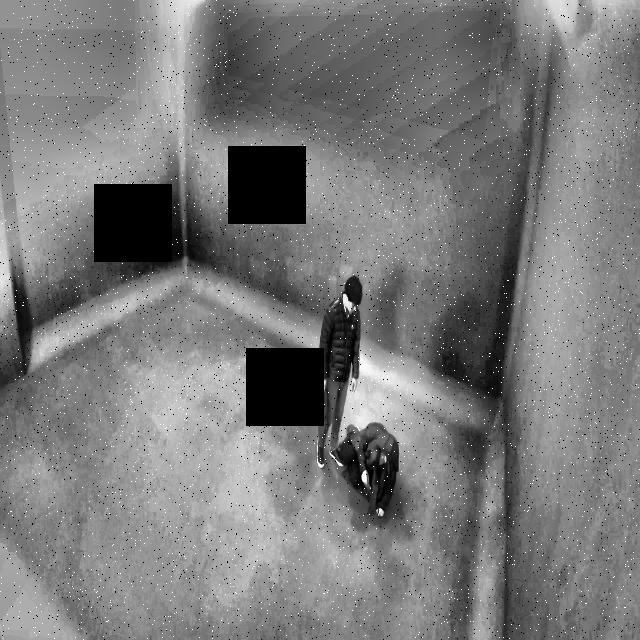assult: (315, 262, 407, 523), (336, 413, 403, 519)
